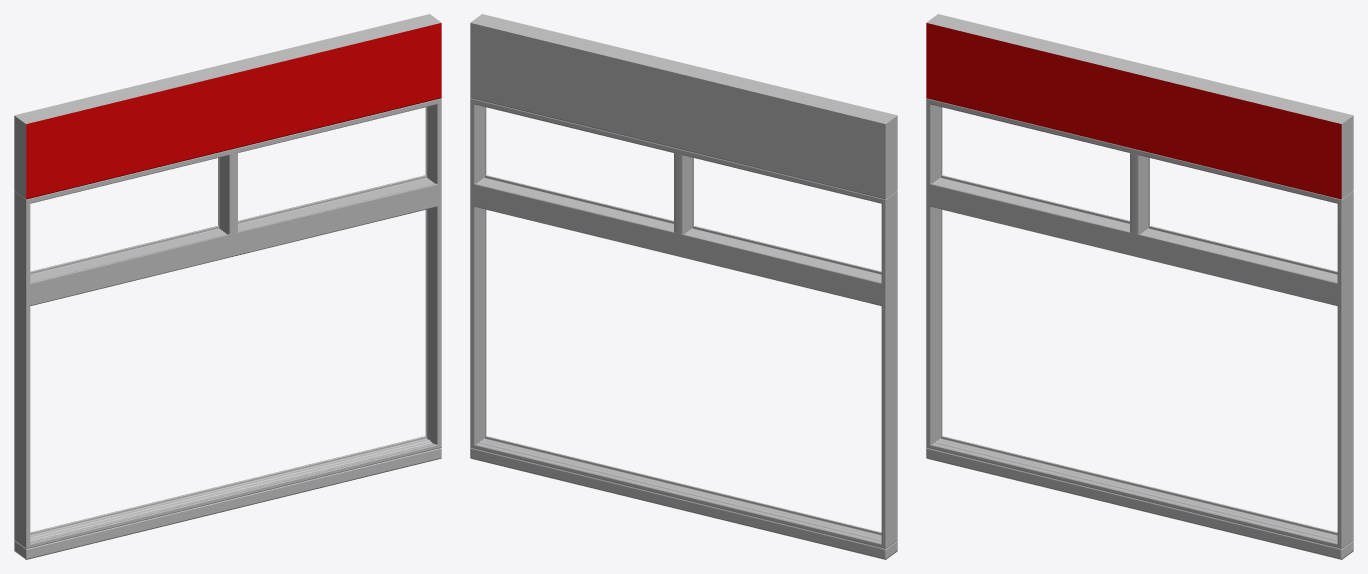
The model's file is Door_Frame_01_Snaps014.fbx.
The picture shows the model from 3 angles, left to right: view 1: azimuth 30°, elevation 25°; view 2: azimuth 150°, elevation 25°; view 3: azimuth 330°, elevation 25°; orthographic projection.
Parts seen in each view (by area): view 1: Door_Frame_01_LOD00; view 2: Door_Frame_01_LOD00; view 3: Door_Frame_01_LOD00.
Boxes of the visible parts, x1,y1,x2,y2 form: Door_Frame_01_LOD00: (14,14,441,559); Door_Frame_01_LOD00: (470,14,897,559); Door_Frame_01_LOD00: (926,14,1353,559).
Size of what is drawn, in the model's own units: 400 by 401 by 20.
